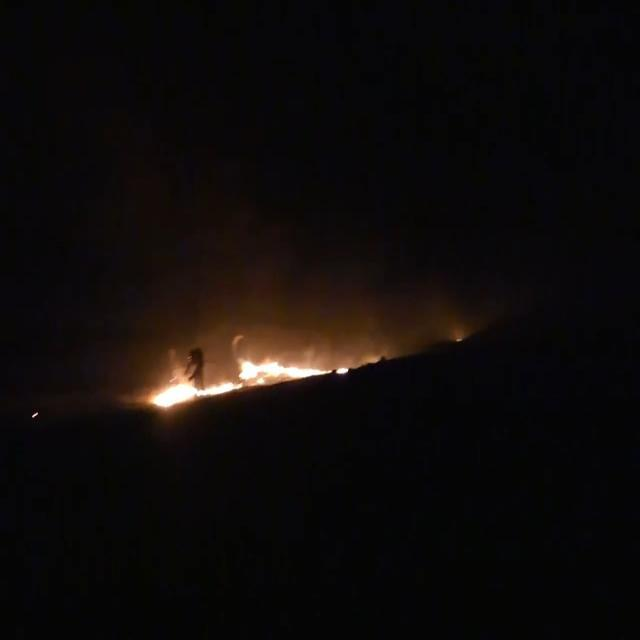Fire: (144, 321, 356, 414)
